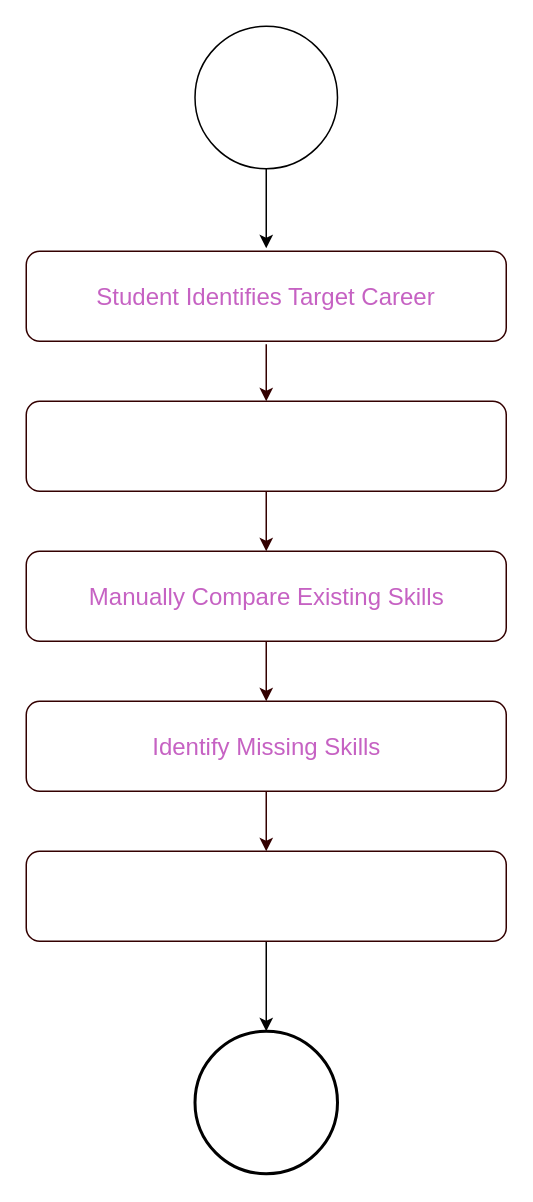
Some shapes in this 533 by 1202 pixel diagram are drawn without their labels. The box of each missing label's shape, as (x1, y1, x2, y2) in pixels:
Plan Learning Activities: (25, 850, 506, 941)
Search for Career Skill Requirements: (25, 400, 506, 491)
